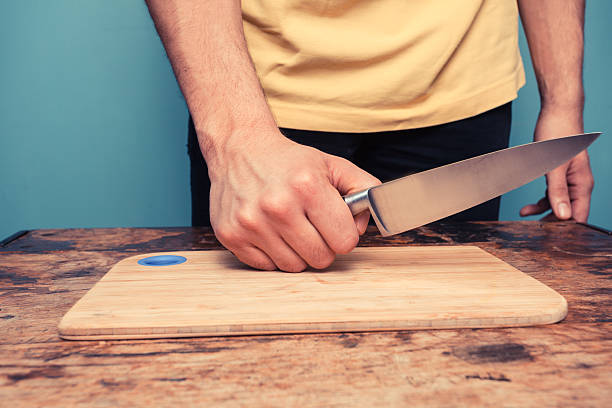knife: (341, 130, 605, 239)
